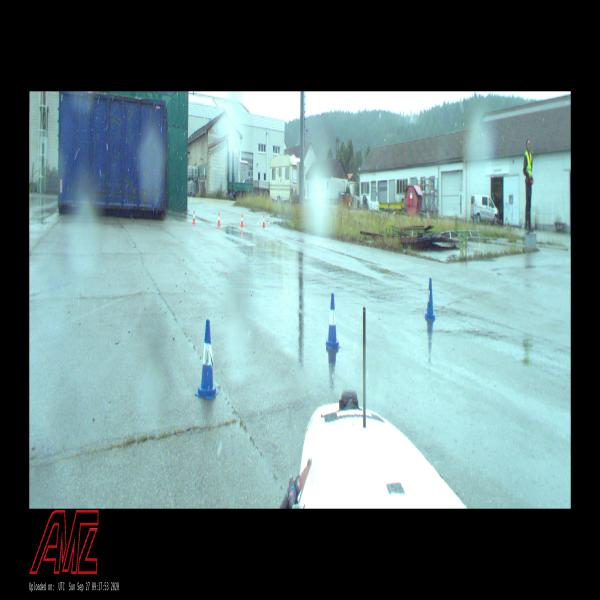blue_cone: (195, 318, 219, 400), (325, 292, 341, 349), (424, 278, 436, 320)
orange_cone: (192, 209, 196, 226), (240, 213, 244, 227), (262, 214, 266, 228), (218, 211, 220, 226)
